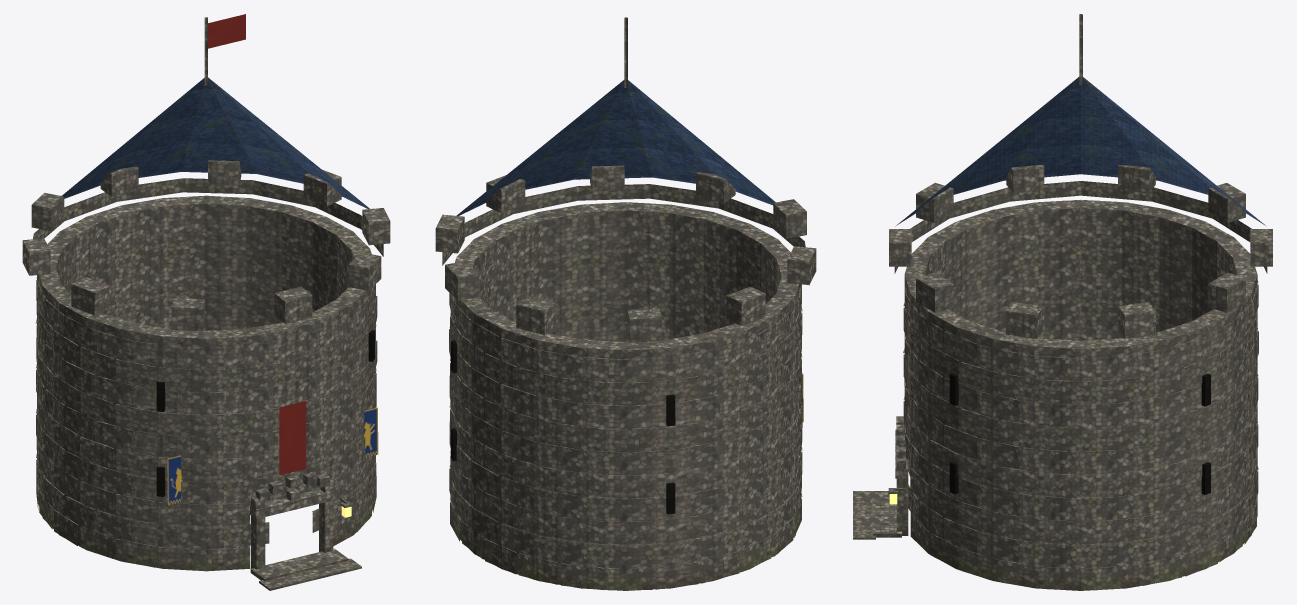
Rendered from bld_gate_tower_card.glb.
The picture shows the model from 3 angles, left to right: view 1: azimuth 30°, elevation 25°; view 2: azimuth 150°, elevation 25°; view 3: azimuth 270°, elevation 25°; orthographic projection. The views are drawn at different scales.
Visible parts, largest first — view 1: gate_tower_card; view 2: gate_tower_card; view 3: gate_tower_card.
Boxes of the visible parts, x1,y1,x2,y2 form: gate_tower_card: (22, 14, 390, 590); gate_tower_card: (435, 17, 816, 590); gate_tower_card: (853, 14, 1272, 590).
Size of the model in its own units: 21.08 by 28.9 by 22.44.
Materials: 1 (1 with a texture image).
